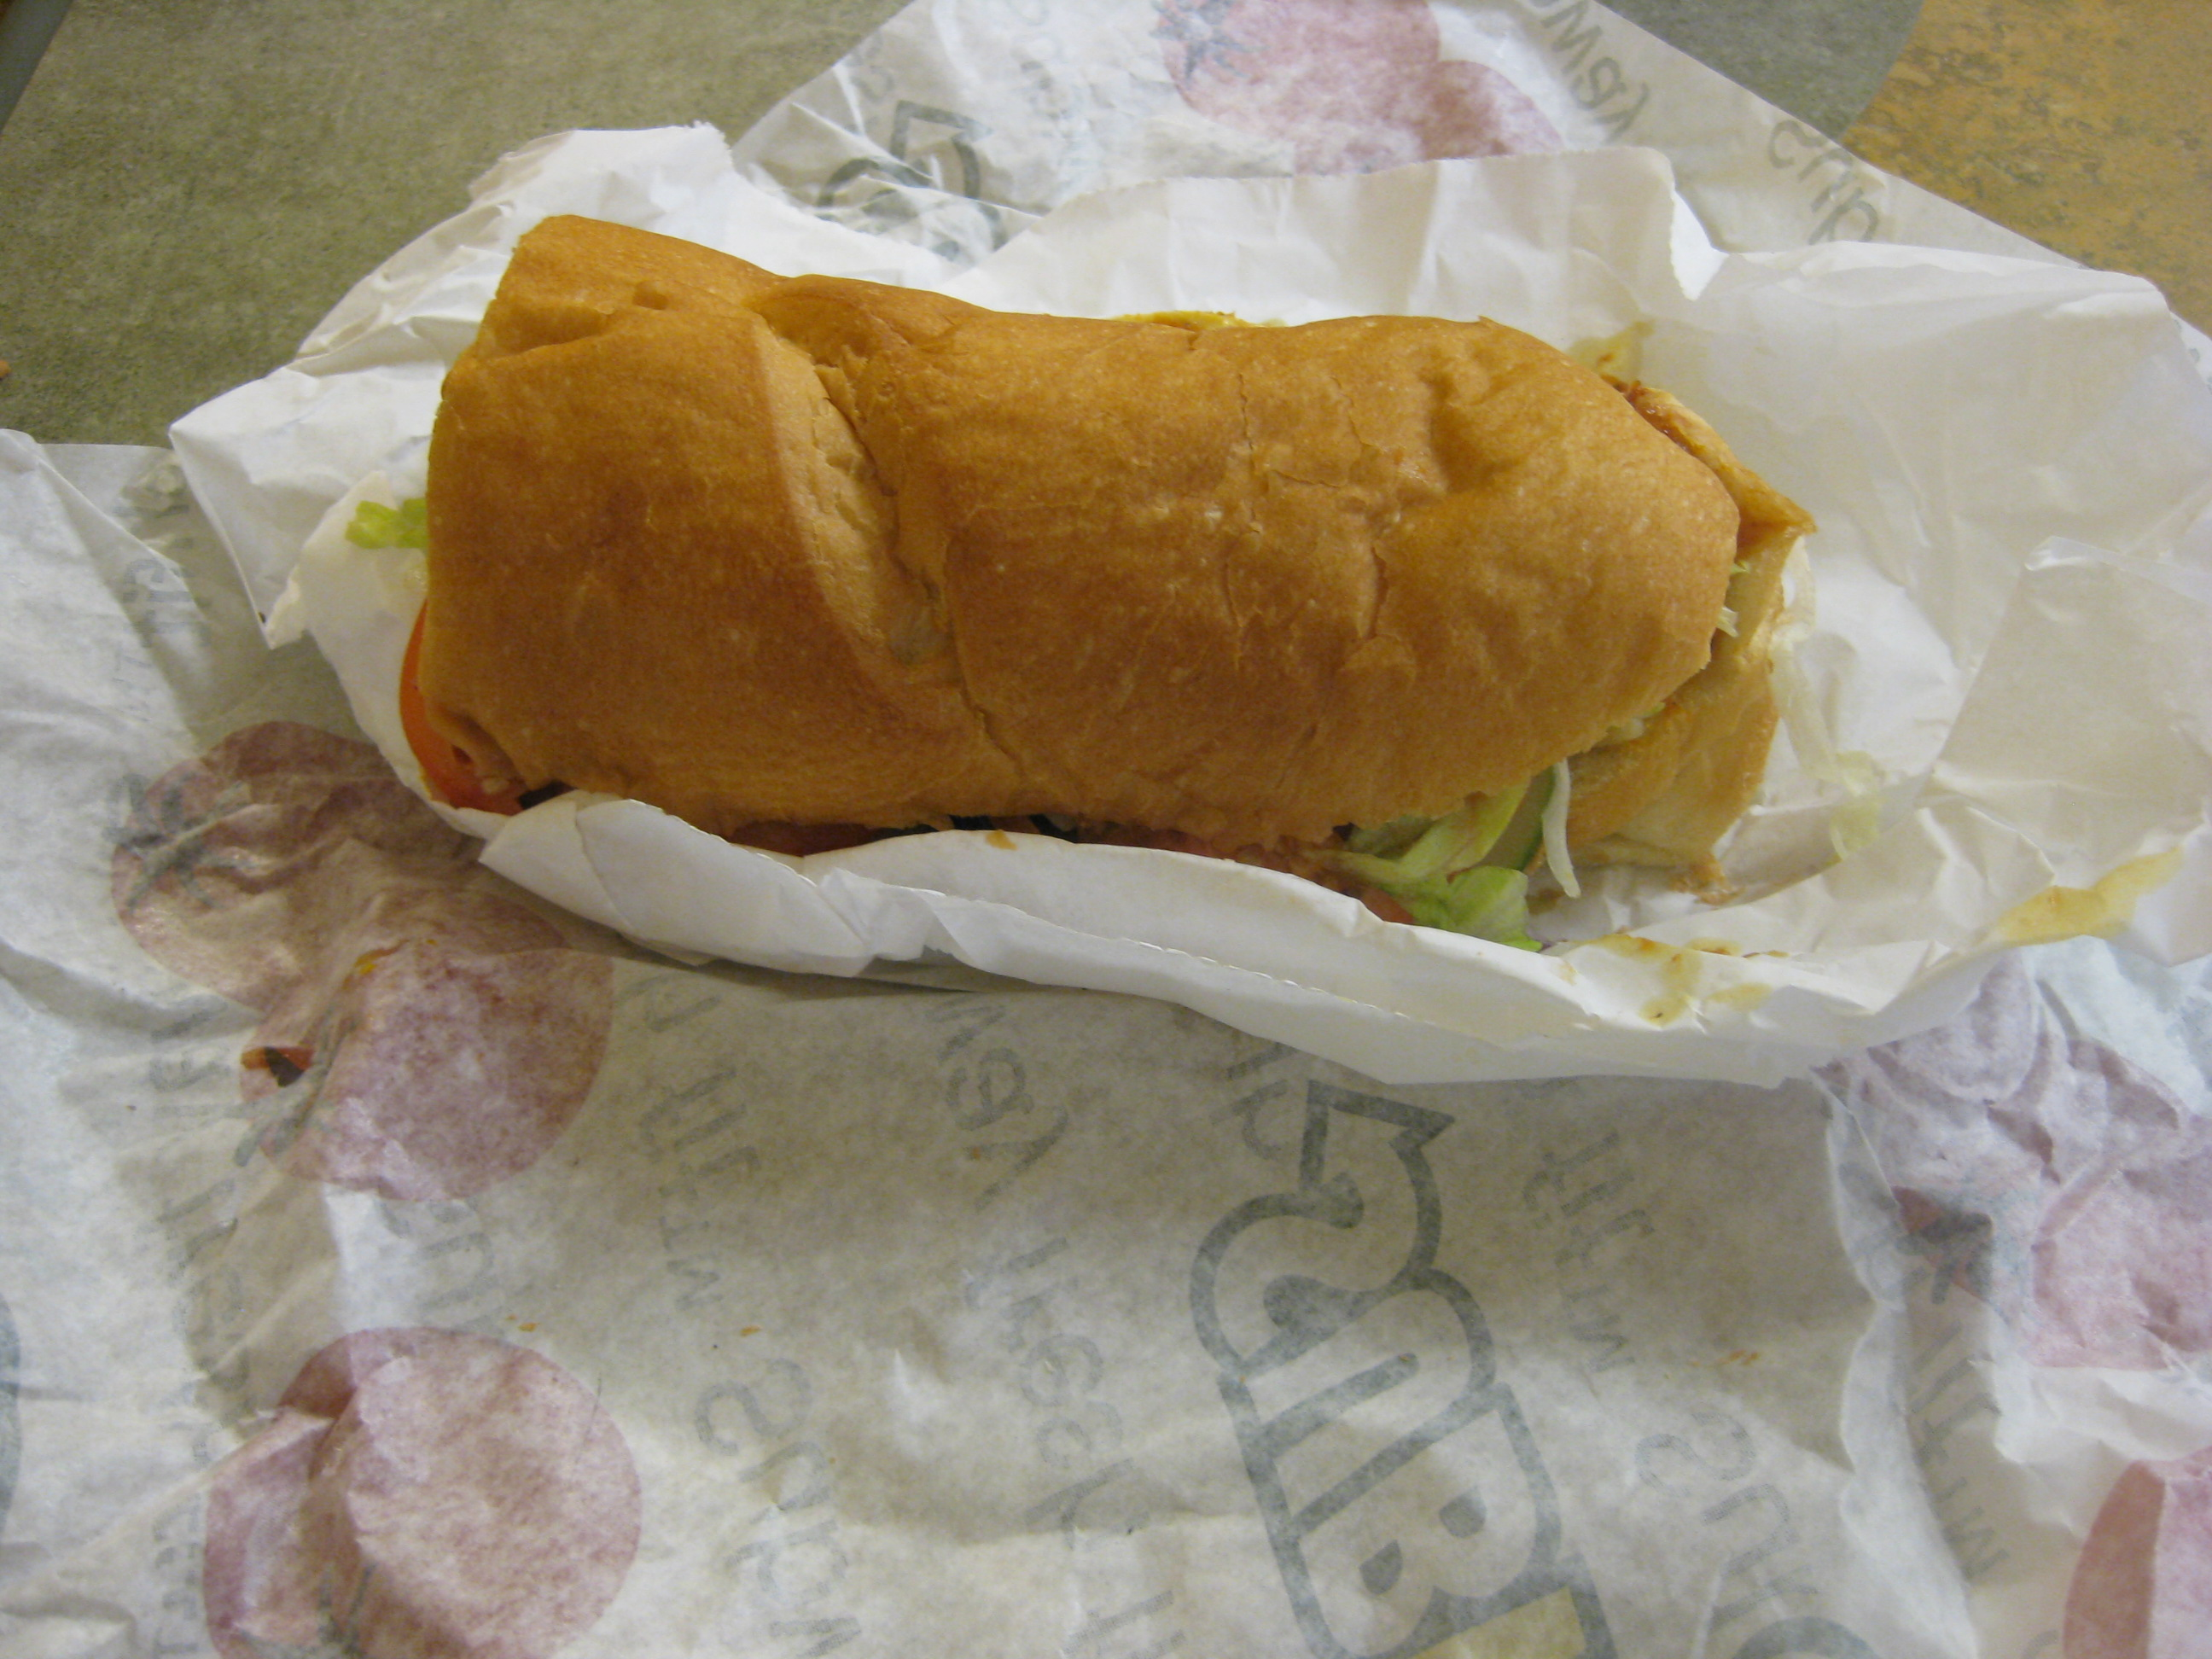sub: (385, 200, 1838, 927)
